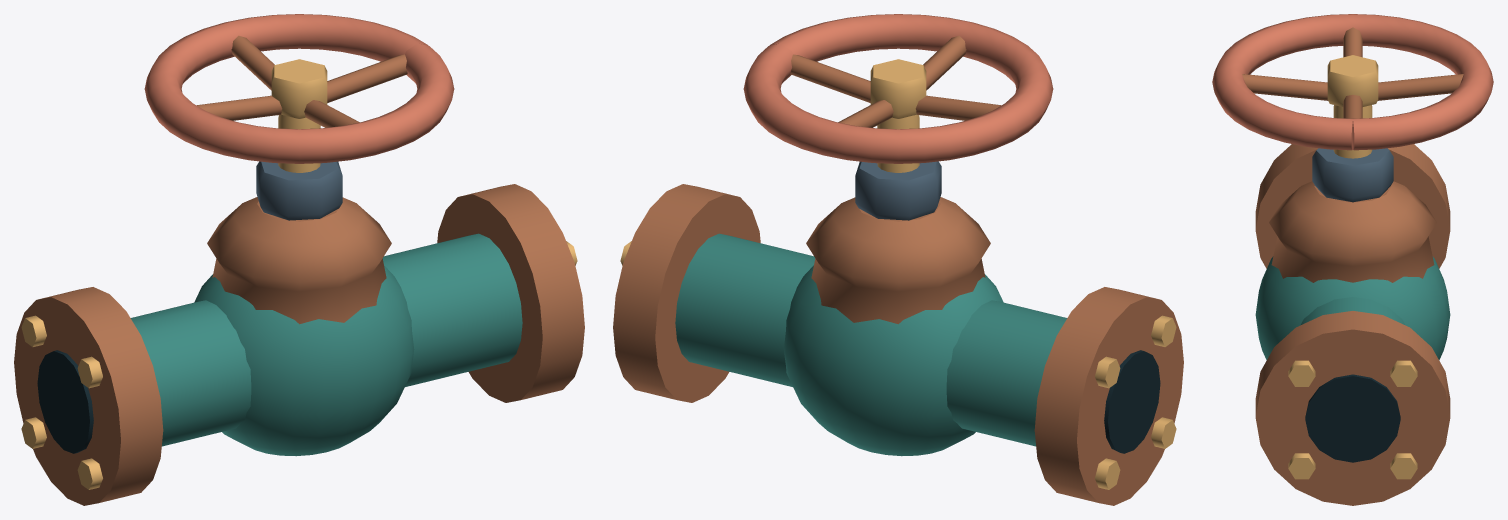
3 renders of one model, left to right at view 1: azimuth 30°, elevation 25°; view 2: azimuth 150°, elevation 25°; view 3: azimuth 270°, elevation 25°, orthographic. The views are drawn at different scales.
Visible parts, largest first — view 1: PR139 enamel and hardware; view 2: PR139 enamel and hardware; view 3: PR139 enamel and hardware.
Part boxes in pixels (bbox=[...]): PR139 enamel and hardware: bbox=[14, 14, 584, 505]; PR139 enamel and hardware: bbox=[613, 14, 1183, 505]; PR139 enamel and hardware: bbox=[1212, 14, 1493, 505].
Bounding box in the file's own units: 0.35 × 0.2587 × 0.1936.
